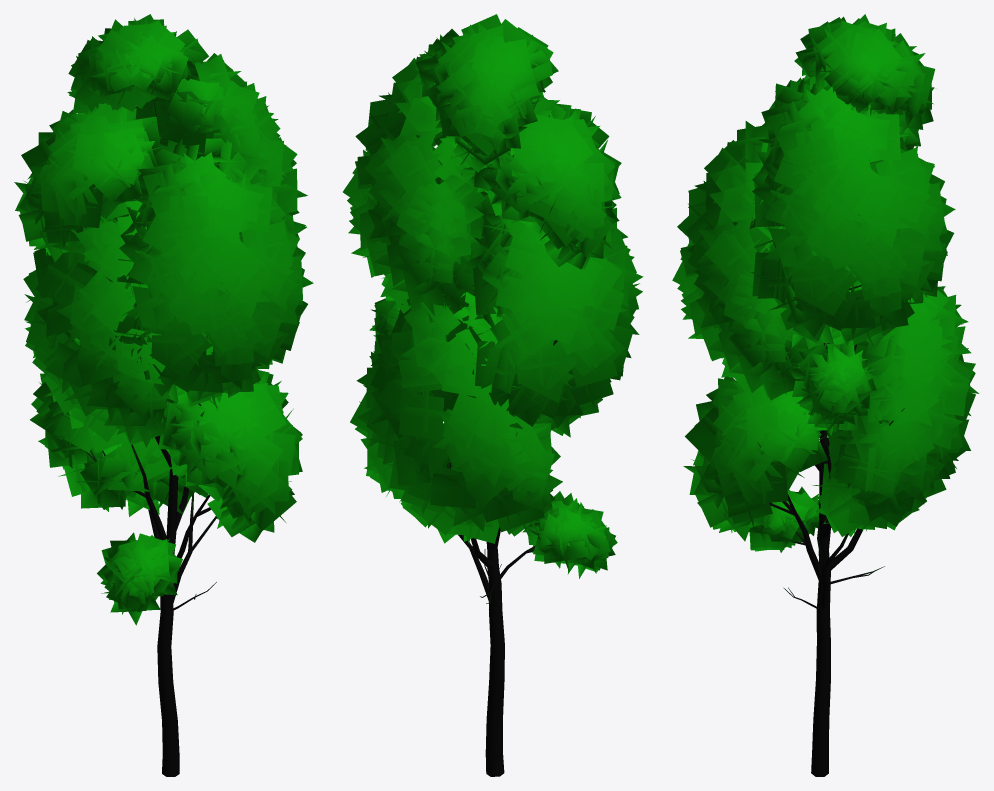
File: IL3DN_Tree_Birch_03_OneMesh.FBX
The picture shows the model from 3 angles, left to right: view 1: azimuth 30°, elevation 25°; view 2: azimuth 150°, elevation 25°; view 3: azimuth 270°, elevation 25°; orthographic projection. The views are drawn at different scales.
Parts seen in each view (by area): view 1: IL3DN_Tree_Birch_03_LOD0; view 2: IL3DN_Tree_Birch_03_LOD0; view 3: IL3DN_Tree_Birch_03_LOD0.
Part boxes in pixels (x1,y1,x2,y2): IL3DN_Tree_Birch_03_LOD0: (14, 14, 313, 776); IL3DN_Tree_Birch_03_LOD0: (343, 14, 643, 776); IL3DN_Tree_Birch_03_LOD0: (672, 14, 979, 776).
Size of what is drawn, in the model's own units: 140 by 386 by 144.
